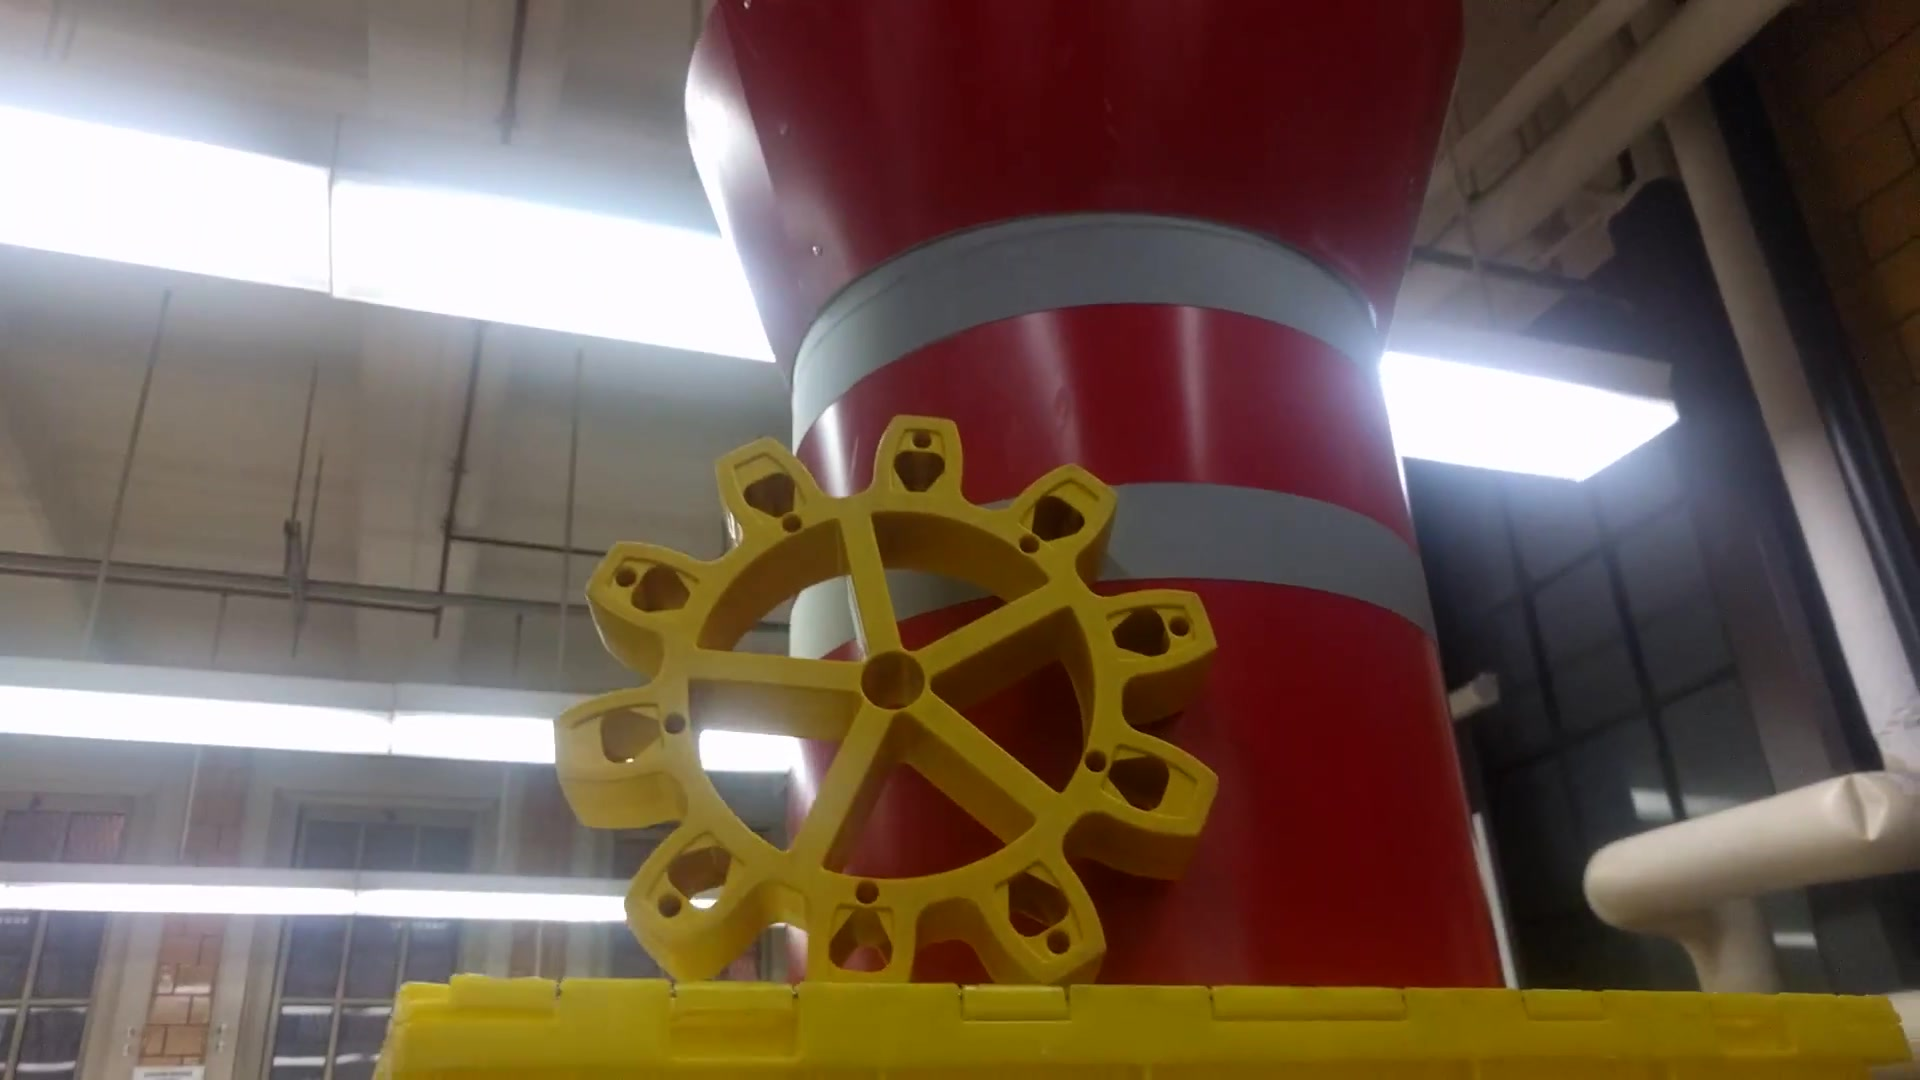gear: (535, 422, 1222, 984)
